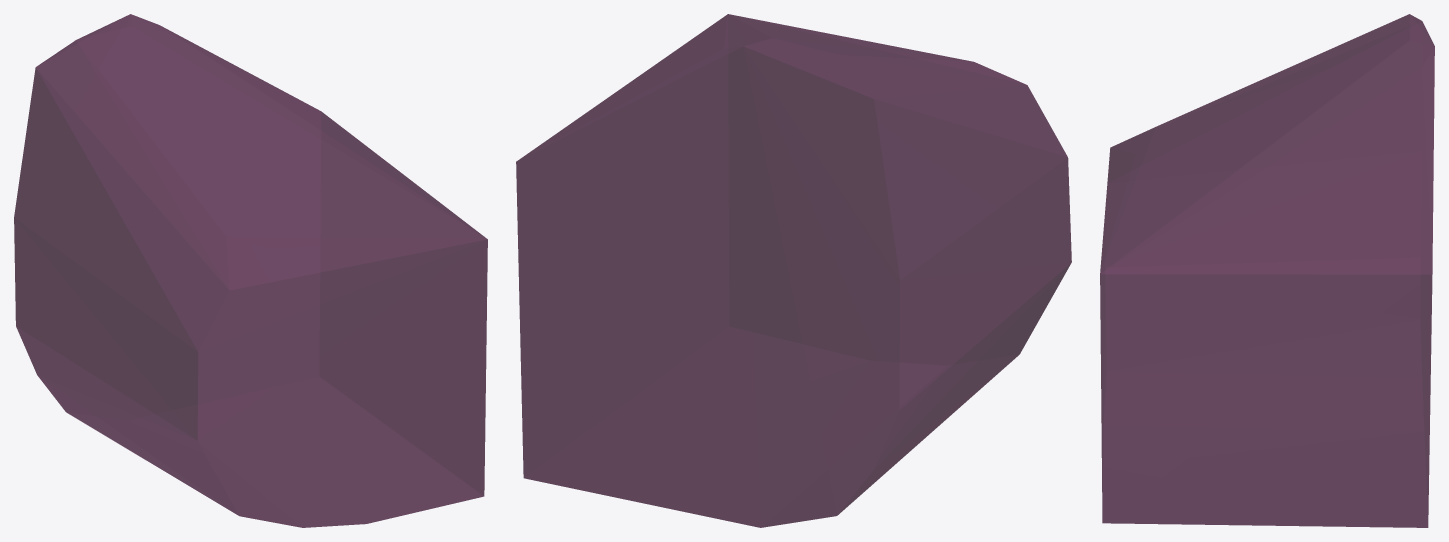
3 views of the same model, side by side, from view 1: azimuth 30°, elevation 25°; view 2: azimuth 150°, elevation 25°; view 3: azimuth 270°, elevation 25° (orthographic). The views are drawn at different scales.
Visible parts, largest first — view 1: Shape_IndexedFaceSet.009_Shape_IndexedFaceSet.4828; view 2: Shape_IndexedFaceSet.009_Shape_IndexedFaceSet.4828; view 3: Shape_IndexedFaceSet.009_Shape_IndexedFaceSet.4828.
Boxes of the visible parts, <box> form: Shape_IndexedFaceSet.009_Shape_IndexedFaceSet.4828: <box>14,14,487,527</box>; Shape_IndexedFaceSet.009_Shape_IndexedFaceSet.4828: <box>516,14,1071,527</box>; Shape_IndexedFaceSet.009_Shape_IndexedFaceSet.4828: <box>1100,14,1434,527</box>.
Size of the model in its own units: 0.2529 by 0.3133 by 0.2413.
